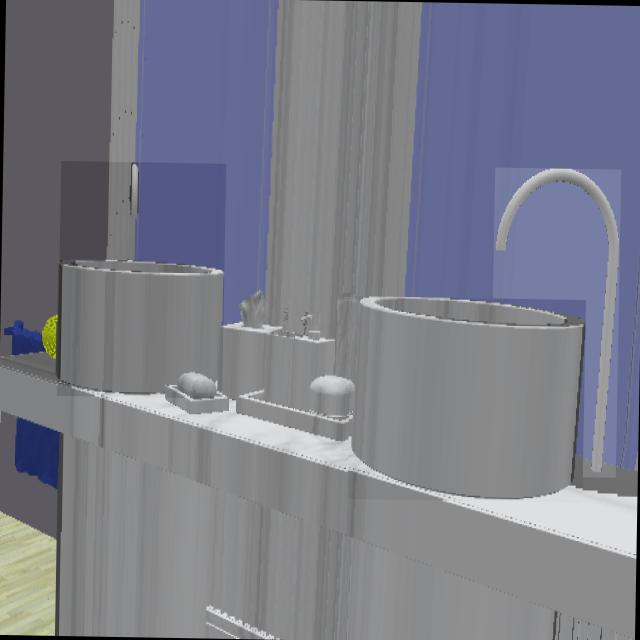washbasin: (349, 297, 585, 501), (493, 168, 620, 477), (57, 162, 224, 396)
